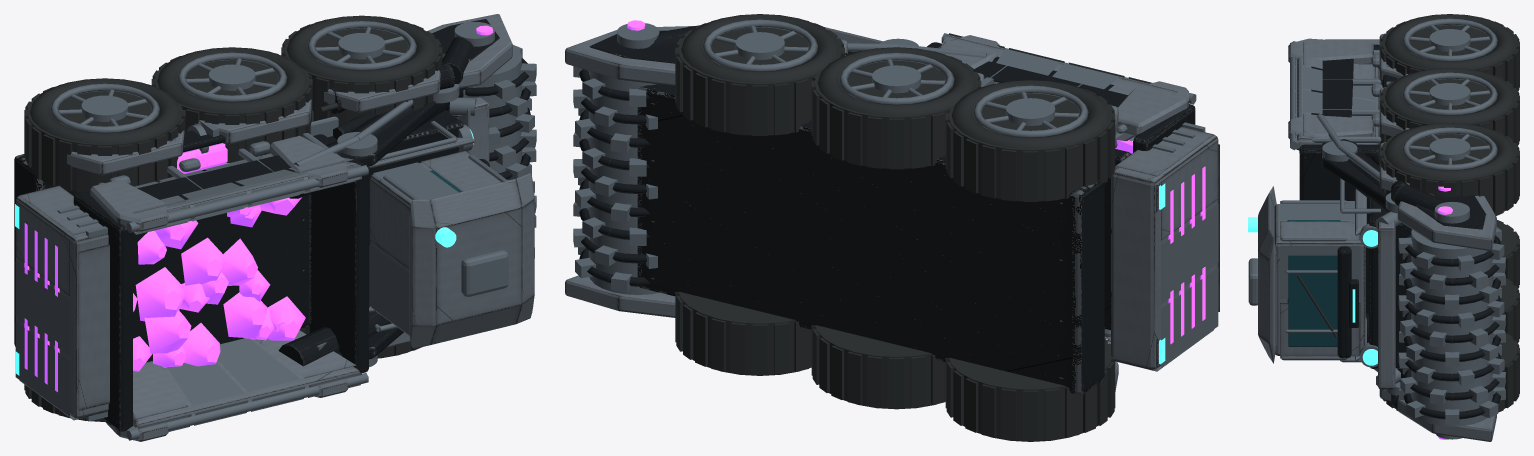
Rendered from harvester-high.glb.
3 views of the same model, side by side, from view 1: azimuth 30°, elevation 25°; view 2: azimuth 150°, elevation 25°; view 3: azimuth 270°, elevation 25° (orthographic). The views are drawn at different scales.
Parts seen in each view (by area): view 1: harvester-root / Brushed pale alloy, harvester-root / Ceramic graphite, harvester-root / Titanium edges, harvester-root / Violet processing, Wheel 2 1 / Tire rubber, Wheel 0 1 / Tire rubber, Wheel 1 1 / Tire rubber, Mineral intake roller / Titanium edges, Wheel 0 1 / Titanium edges, Wheel 1 1 / Titanium edges, Wheel 2 1 / Titanium edges, Mineral intake roller / Ceramic graphite (+1 smaller); view 2: harvester-root / Ceramic graphite, harvester-root / Brushed pale alloy, Wheel 2 1 / Tire rubber, Wheel 0 1 / Tire rubber, Wheel 1 1 / Tire rubber, Mineral intake roller / Titanium edges, harvester-root / Titanium edges, Wheel 2 -1 / Tire rubber, Wheel 0 -1 / Tire rubber, Wheel 1 -1 / Tire rubber, Mineral intake roller / Ceramic graphite, Wheel 1 1 / Titanium edges (+3 smaller); view 3: harvester-root / Brushed pale alloy, Mineral intake roller / Titanium edges, harvester-root / Ceramic graphite, harvester-root / Titanium edges, Wheel 0 1 / Tire rubber, Wheel 1 1 / Tire rubber, Wheel 2 1 / Tire rubber, Mineral intake roller / Ceramic graphite, harvester-root / Cyan glazing, Wheel 0 1 / Titanium edges, Wheel 2 1 / Titanium edges, Wheel 1 1 / Titanium edges (+4 smaller).
Boxes of the visible parts, <box> form: harvester-root / Brushed pale alloy: <box>15,14,534,441</box>; harvester-root / Ceramic graphite: <box>14,19,499,431</box>; harvester-root / Titanium edges: <box>15,22,508,440</box>; harvester-root / Violet processing: <box>24,25,493,391</box>; Wheel 2 1 / Tire rubber: <box>24,78,185,193</box>; Wheel 0 1 / Tire rubber: <box>281,15,442,126</box>; Wheel 1 1 / Tire rubber: <box>151,47,312,162</box>; Mineral intake roller / Titanium edges: <box>455,45,536,258</box>; Wheel 0 1 / Titanium edges: <box>306,21,416,70</box>; Wheel 1 1 / Titanium edges: <box>177,52,287,101</box>; Wheel 2 1 / Titanium edges: <box>50,83,159,133</box>; Mineral intake roller / Ceramic graphite: <box>447,58,530,179</box>; harvester-root / Ceramic graphite: <box>589,25,1195,394</box>; harvester-root / Brushed pale alloy: <box>565,26,1219,391</box>; Wheel 2 1 / Tire rubber: <box>945,80,1115,201</box>; Wheel 0 1 / Tire rubber: <box>675,14,844,135</box>; Wheel 1 1 / Tire rubber: <box>811,47,981,169</box>; Mineral intake roller / Titanium edges: <box>573,66,659,294</box>; harvester-root / Titanium edges: <box>617,23,1218,367</box>; Wheel 2 -1 / Tire rubber: <box>945,339,1115,441</box>; Wheel 0 -1 / Tire rubber: <box>675,291,811,375</box>; Wheel 1 -1 / Tire rubber: <box>811,325,945,409</box>; Mineral intake roller / Ceramic graphite: <box>579,69,650,286</box>; Wheel 1 1 / Titanium edges: <box>838,53,954,104</box>; harvester-root / Brushed pale alloy: <box>1258,33,1496,441</box>; Mineral intake roller / Titanium edges: <box>1398,227,1505,426</box>; harvester-root / Ceramic graphite: <box>1299,44,1486,409</box>; harvester-root / Titanium edges: <box>1248,41,1469,439</box>; Wheel 0 1 / Tire rubber: <box>1380,123,1519,215</box>; Wheel 1 1 / Tire rubber: <box>1380,68,1519,145</box>; Wheel 2 1 / Tire rubber: <box>1380,14,1519,91</box>; Mineral intake roller / Ceramic graphite: <box>1403,233,1500,419</box>; harvester-root / Cyan glazing: <box>1287,220,1340,346</box>; Wheel 0 1 / Titanium edges: <box>1402,127,1497,170</box>; Wheel 2 1 / Titanium edges: <box>1402,18,1497,61</box>; Wheel 1 1 / Titanium edges: <box>1402,72,1497,115</box>.
Size of the model in its own units: 1.52 by 0.793 by 0.7758.
7 materials, 2 textured.
